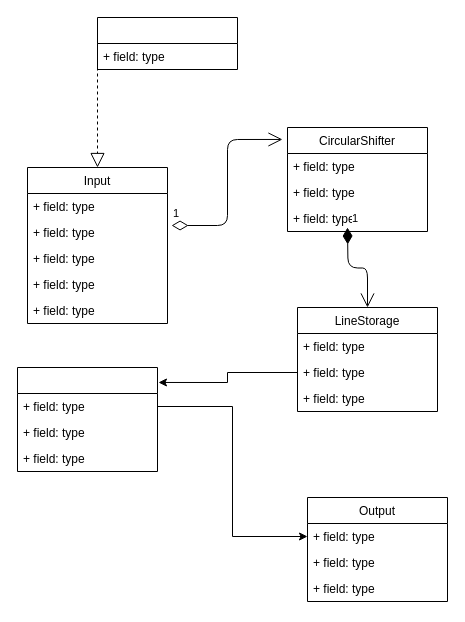
This 465x622 diagram has some shape labels left out. The box of each missing label's shape, as (x1, y1, x2, y2) in pixels:
Alphabetizer: (16, 366, 158, 472)
MasterControl: (96, 16, 238, 70)
